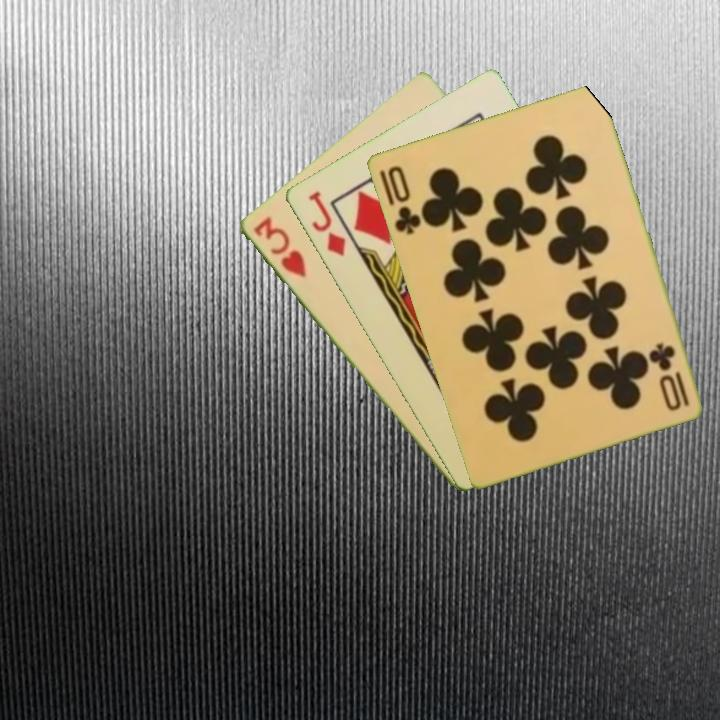10c: (375, 162, 424, 237), (646, 339, 692, 414)
3h: (249, 212, 309, 281)
Jd: (304, 187, 349, 259)
